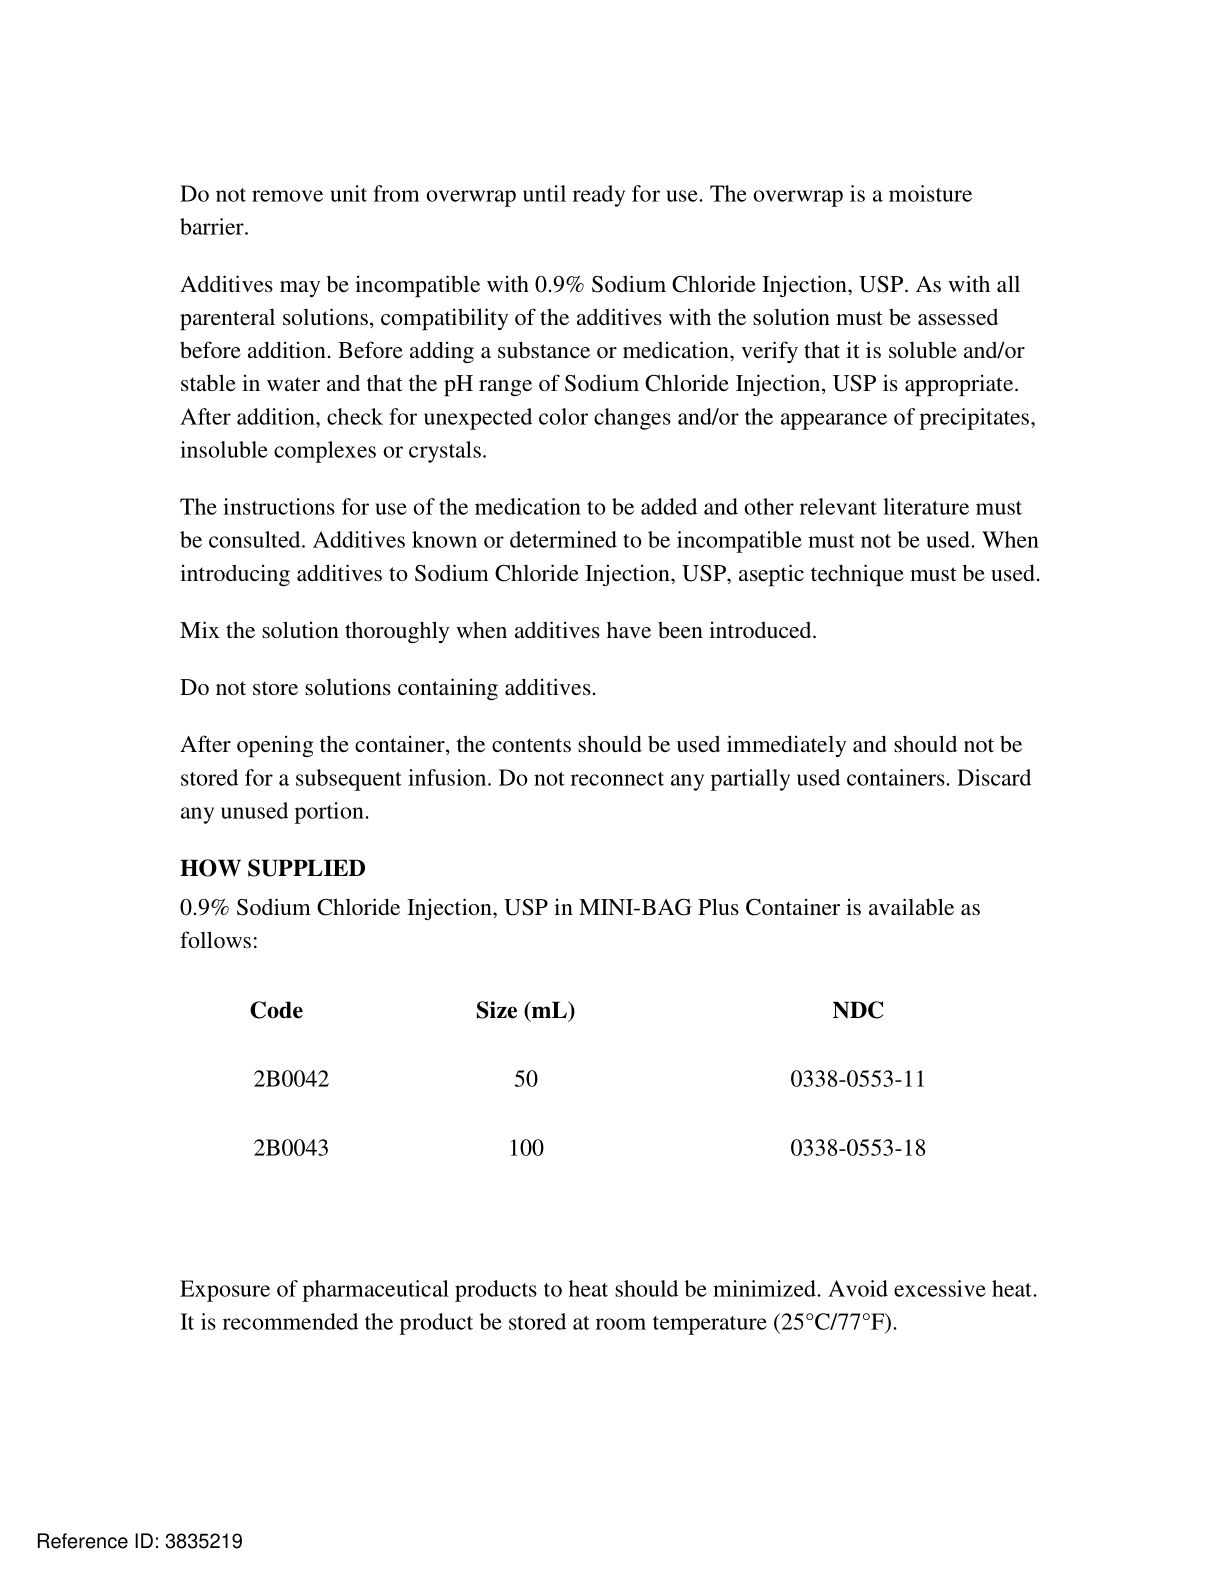nolines: (247, 995, 931, 1162)
